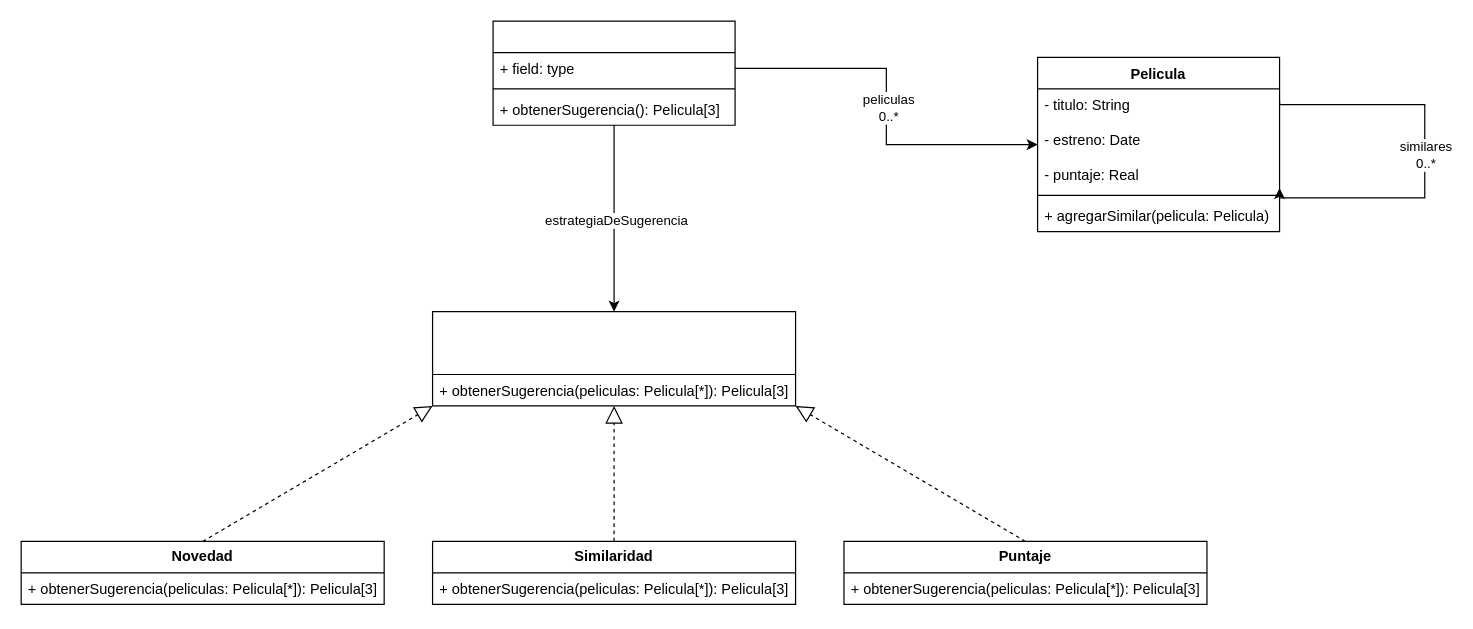
The diagram is 1473 pixels wide and 629 high, and some of its shapes have lost their labels. Each missing label, with the box of its shape:
<<interface>> SugerenciaStrategy: (431, 310, 796, 406)
Sistema: (492, 20, 735, 125)
